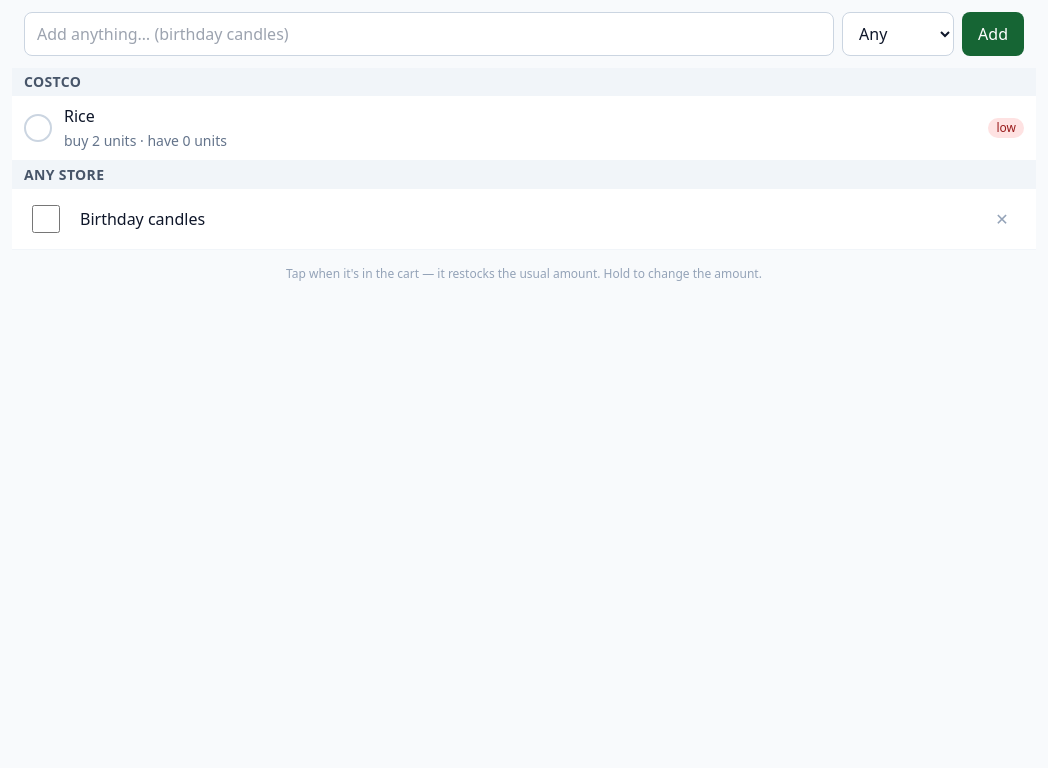
Shopping screen › surfaces a toast when Undo fails
Click the button with aria-label "Got Rice" at (79, 116), box x1=12 y1=96 x2=1036 y2=161
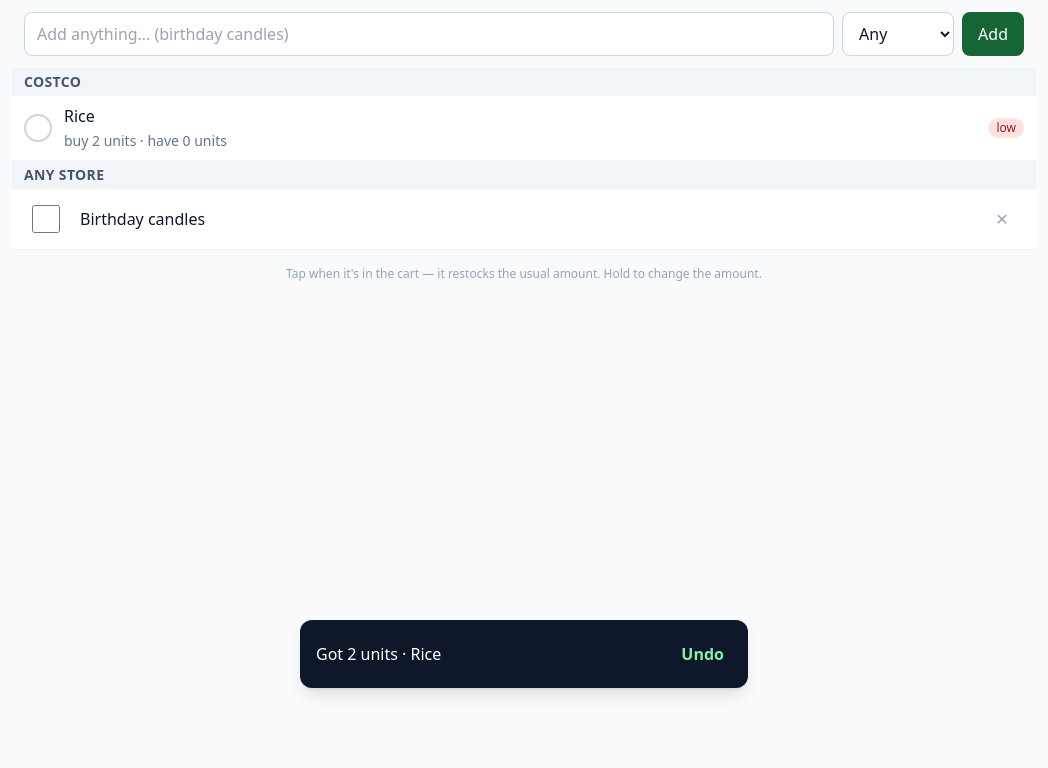
Click the button "Undo" at (703, 654), box x1=673 y1=632 x2=732 y2=676
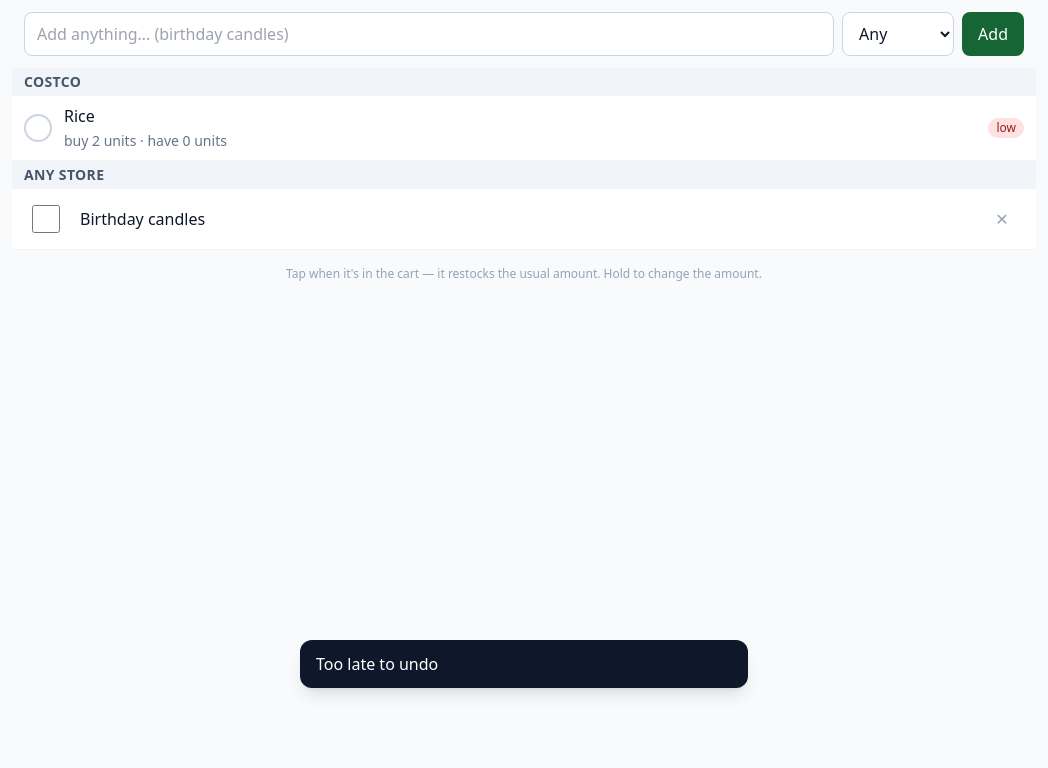
Check: the text "Too late to undo" is shown, box x1=316 y1=652 x2=438 y2=676
